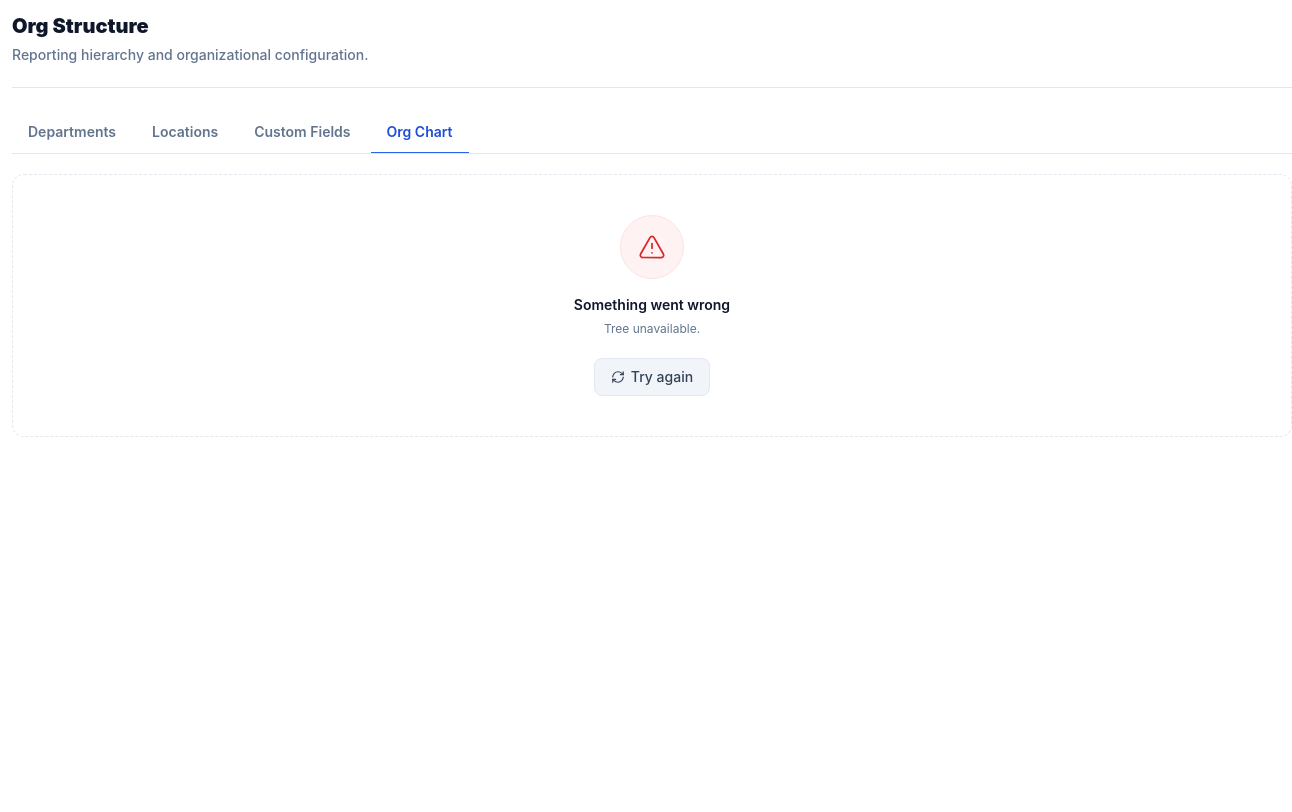
Test: its states › offers a retry for a server error, but not for a refusal
Expected: the text "Tree unavailable." is shown, [604,319,700,338]
Click the button "Try again". click: (652, 377)
box: [594,358,710,396]
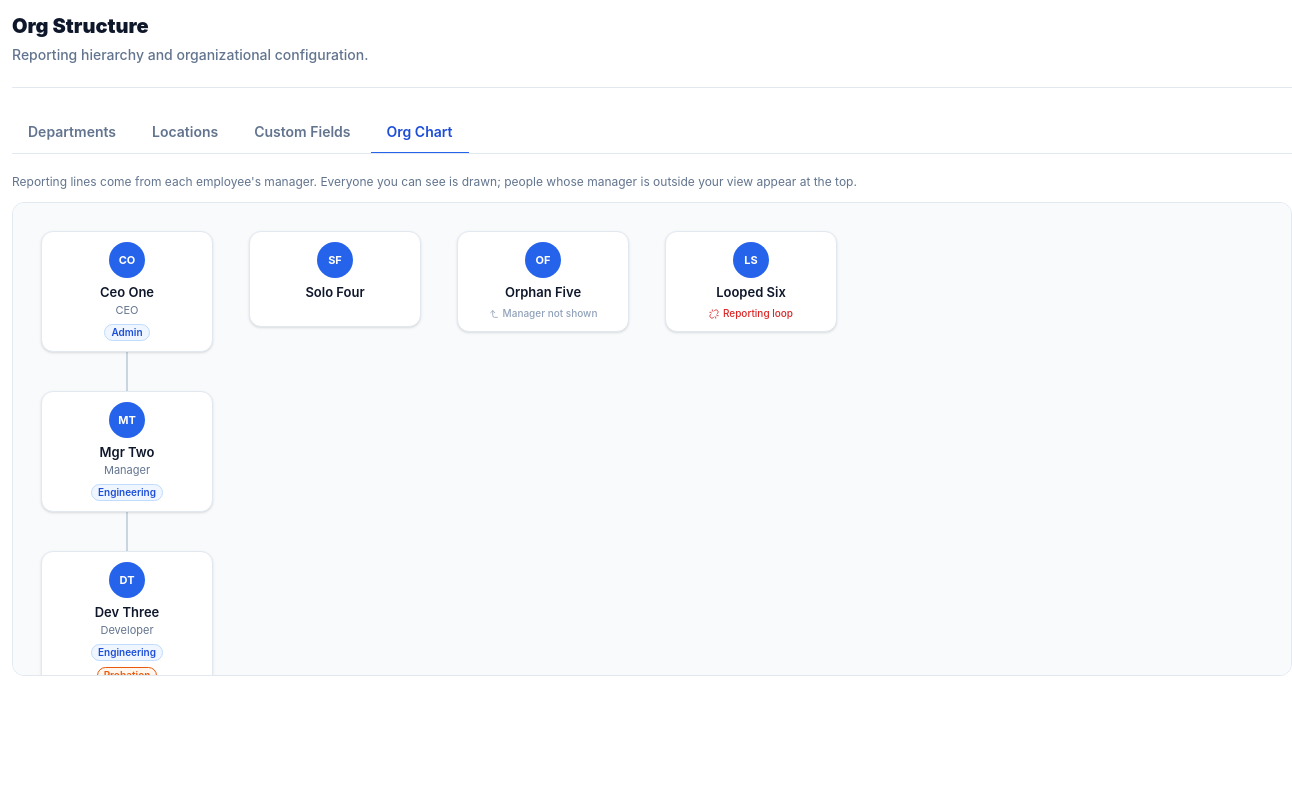
Now the text "Ceo One" is shown, box [100,284,154,300]
